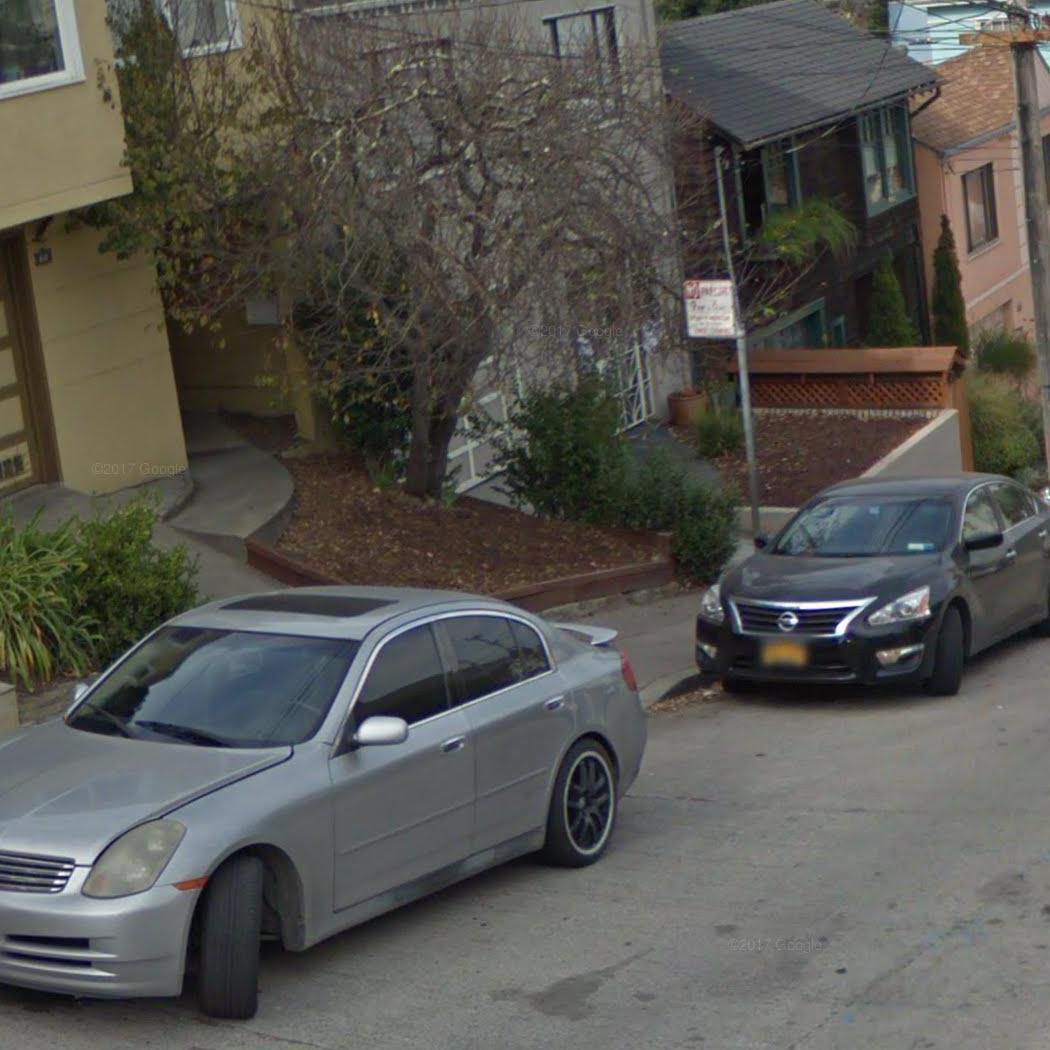No Parking: (681, 279, 742, 342)
